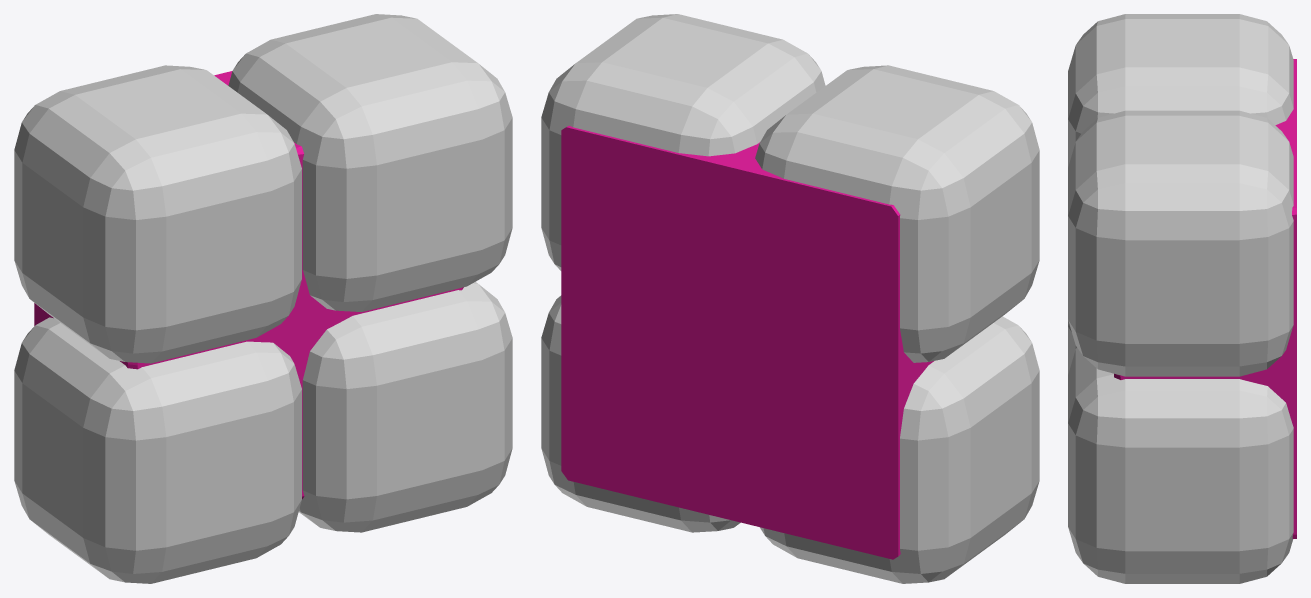
Rendered from MagicCube-Split-R.fbx.
The picture shows the model from 3 angles, left to right: view 1: azimuth 30°, elevation 25°; view 2: azimuth 150°, elevation 25°; view 3: azimuth 270°, elevation 25°; orthographic projection. The views are drawn at different scales.
Parts seen in each view (by area): view 1: MagicCube-Split-R; view 2: MagicCube-Split-R; view 3: MagicCube-Split-R.
Boxes of the visible parts, x1,y1,x2,y2 form: MagicCube-Split-R: (14,14,512,583); MagicCube-Split-R: (541,14,1039,583); MagicCube-Split-R: (1068,14,1296,583).
Size of the model in its own units: 40 by 40 by 20.
